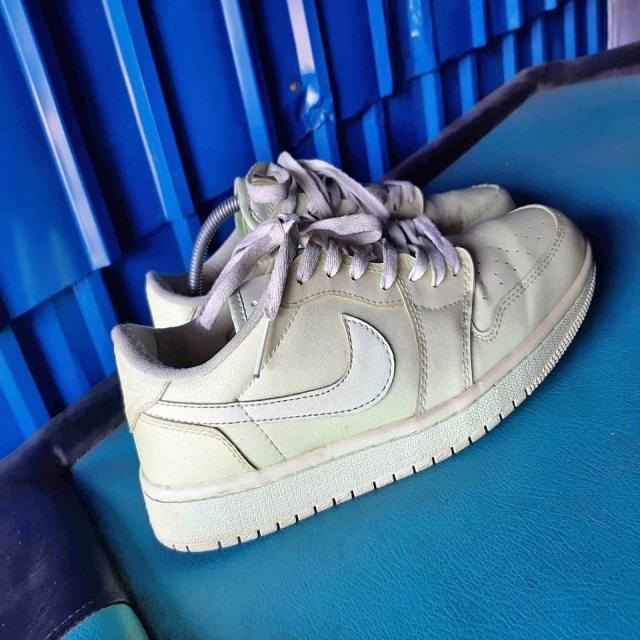nike fake jordan 1: (108, 199, 604, 558)
